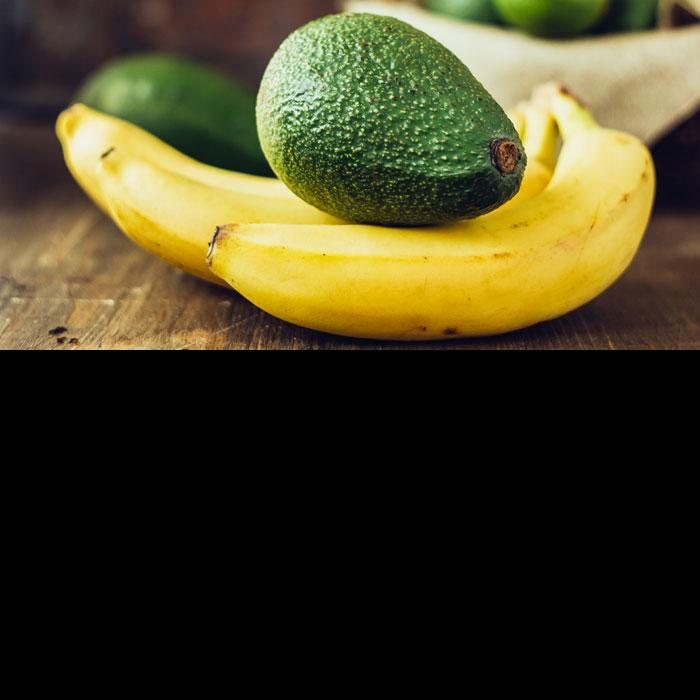unripe: (254, 13, 527, 228)
